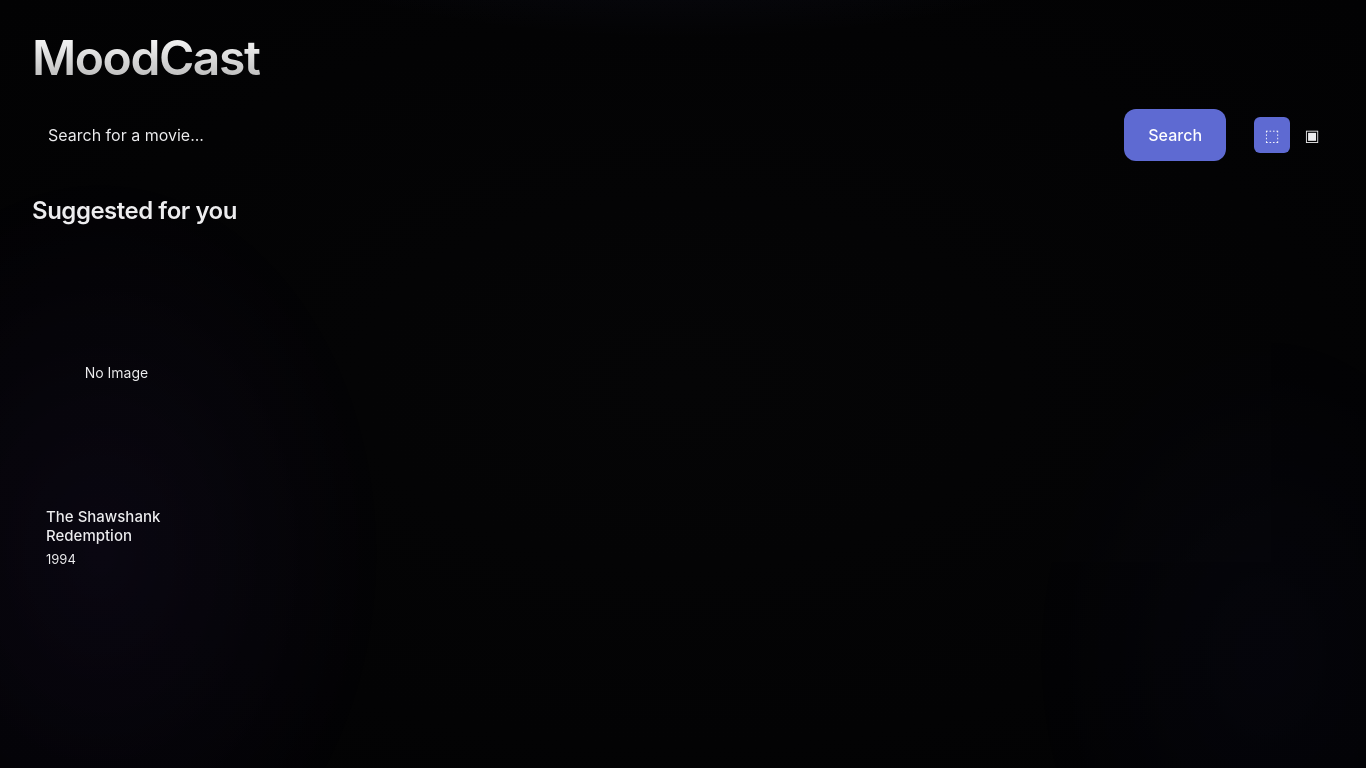
Test: Accessibility & Keyboard Navigation › closes preview when backdrop is clicked
Note: Hover to trigger preview
Hover over the text "The Shawshank Redemption" at coordinates (116, 373), box x1=46 y1=364 x2=160 y2=567
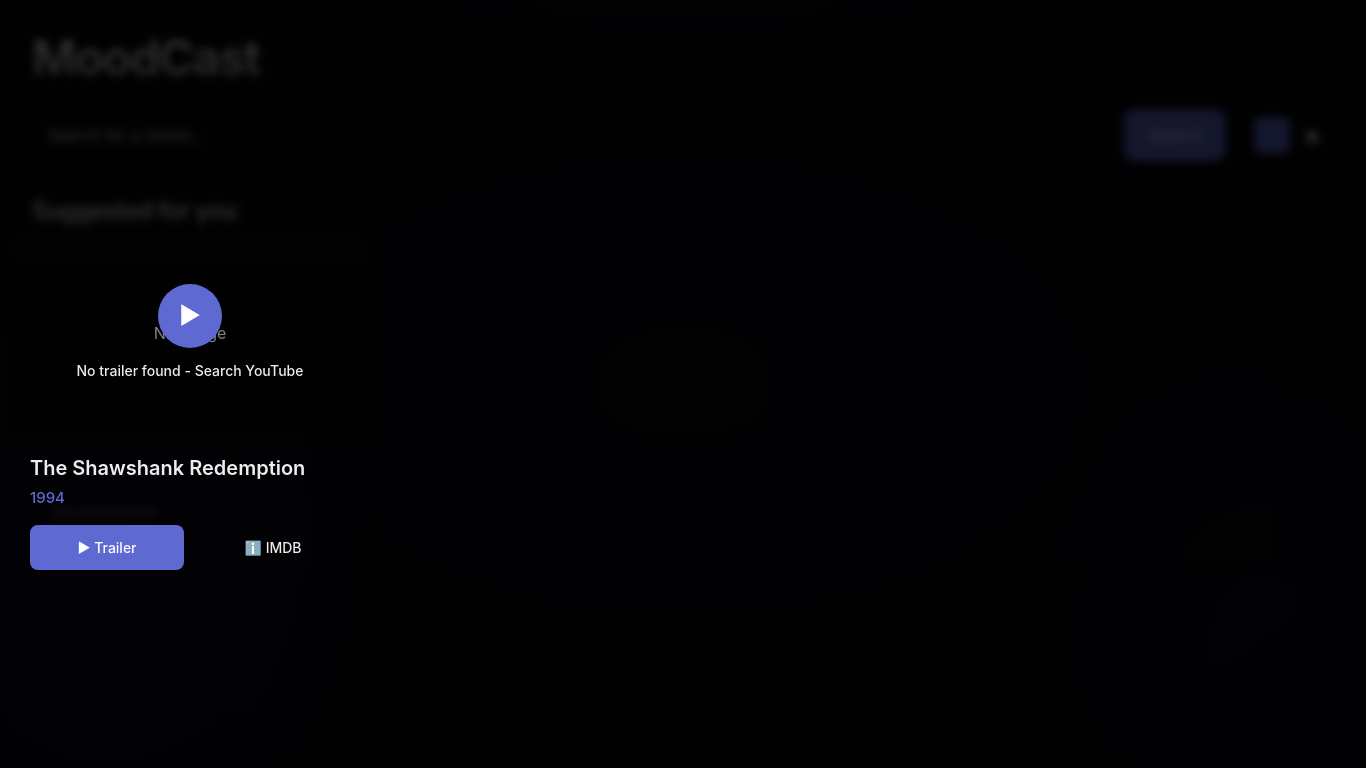
Check: the button "▶ Trailer" is shown, box x1=30 y1=525 x2=184 y2=570
Note: Find the backdrop element and click it to close the preview
Click the element with class "preview-backdrop" at coordinates (683, 384), box x1=0 y1=0 x2=1365 y2=767
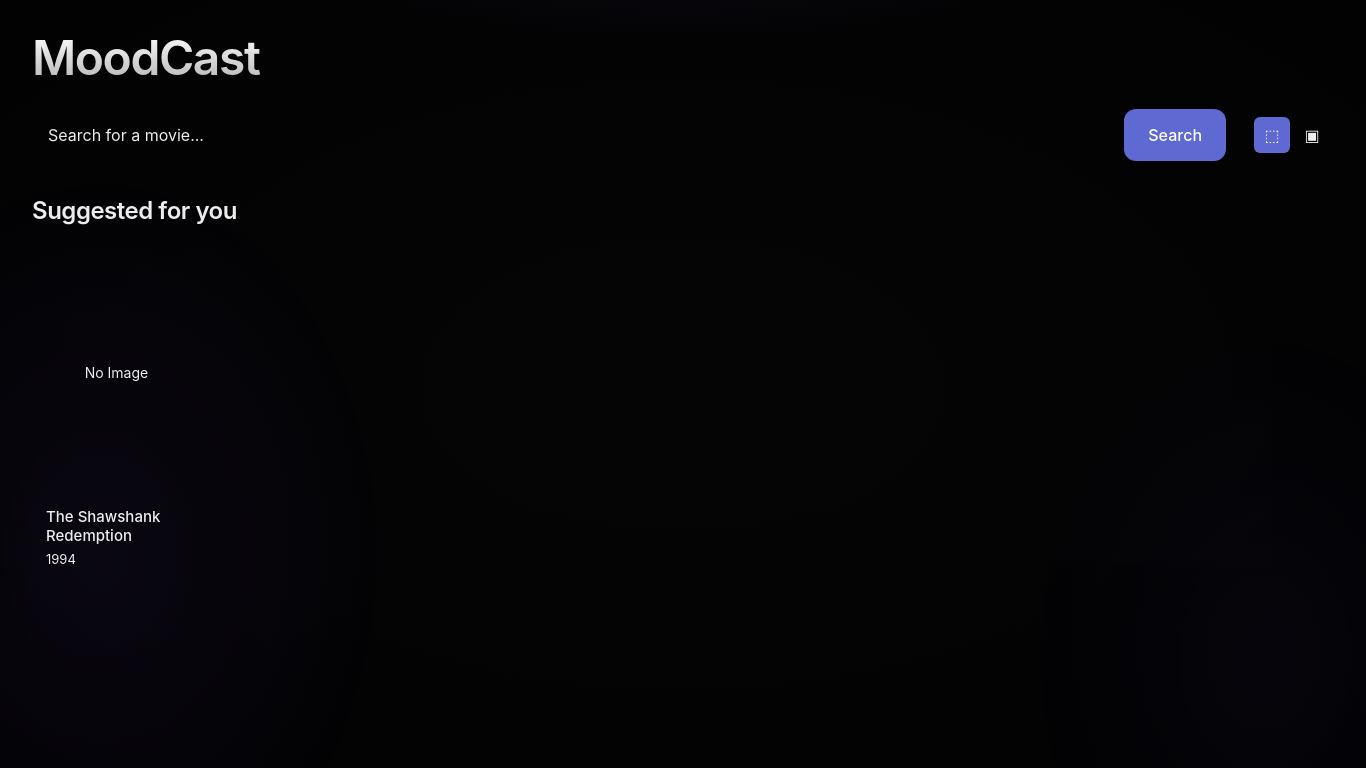
Check: the button "▶ Trailer" is gone
